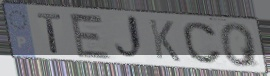C: (181, 21, 224, 66)
E: (67, 11, 114, 61)
J: (113, 13, 148, 63)
K: (147, 18, 183, 64)
Q: (218, 22, 262, 69)
T: (36, 11, 64, 56)
